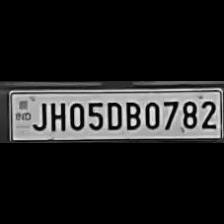0: (66, 99, 86, 130), (142, 98, 160, 130)
2: (198, 97, 216, 130)
5: (86, 98, 104, 130)
7: (160, 98, 178, 130)
8: (178, 97, 198, 130)
B: (122, 98, 140, 130)
D: (104, 98, 122, 130)
H: (46, 99, 66, 131)
J: (30, 99, 46, 131)
